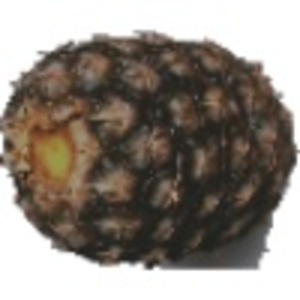abacaxi: (3, 28, 286, 261)
